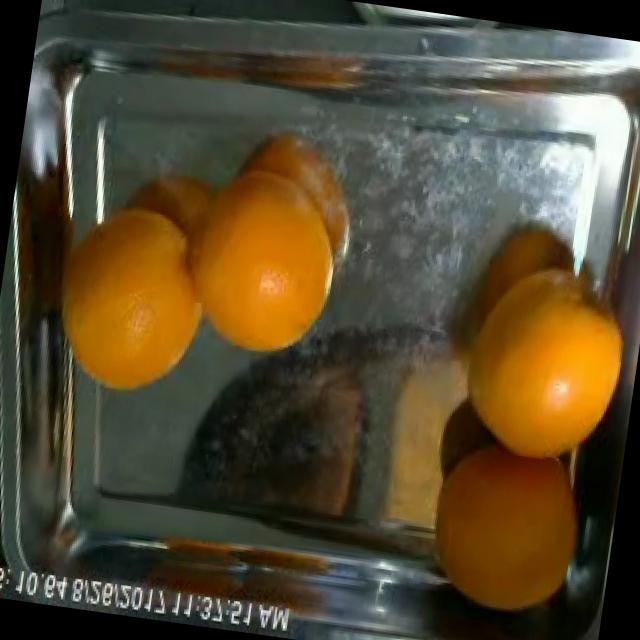Fruit: (402, 401, 598, 640)
